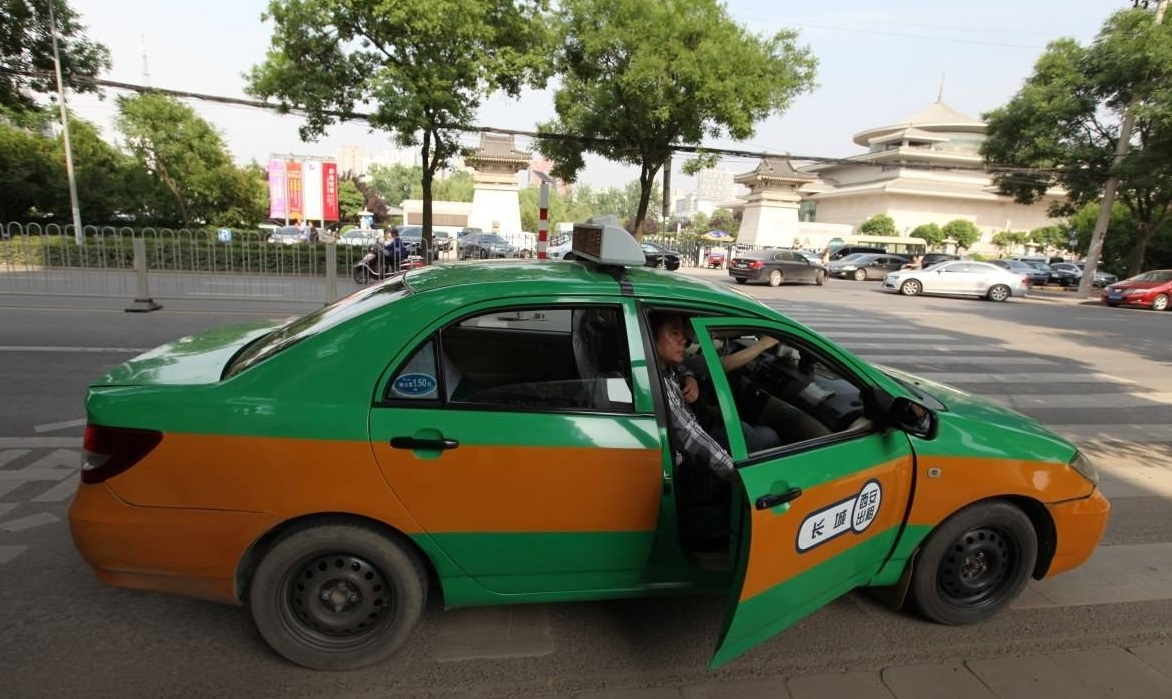taxi: (58, 219, 1111, 688)
